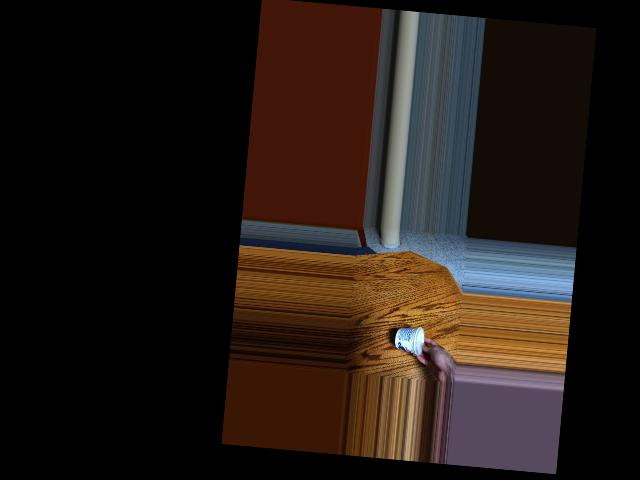cotage: (397, 322, 426, 356)
